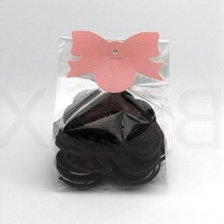snack: (43, 23, 181, 200)
